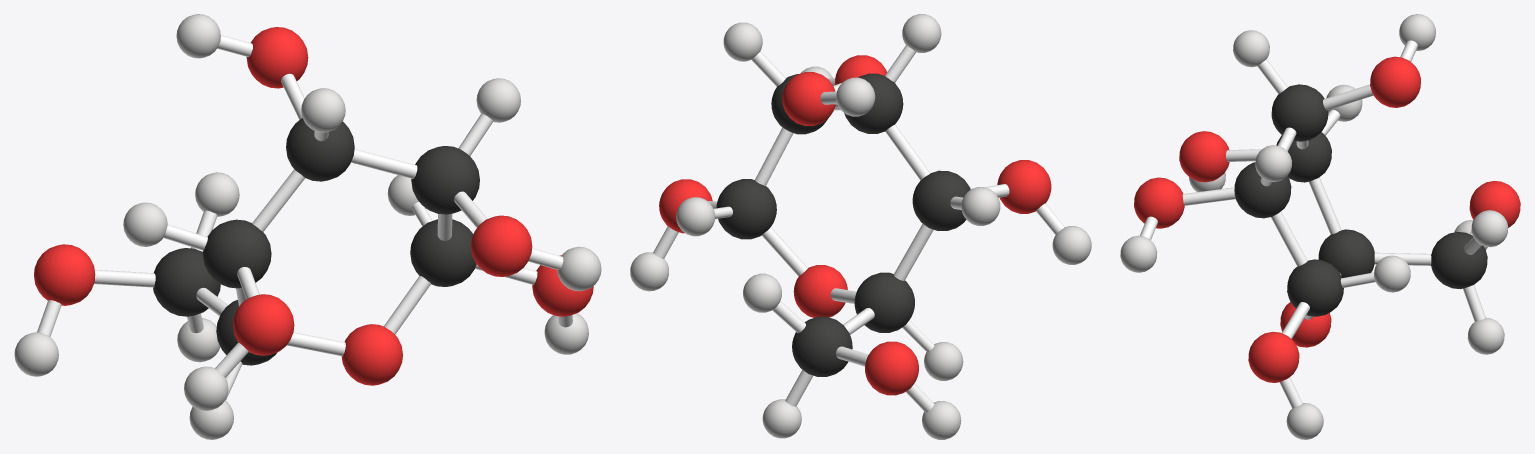
File: putaotang.fbx
3 renders of one model, left to right at view 1: azimuth 30°, elevation 25°; view 2: azimuth 150°, elevation 25°; view 3: azimuth 270°, elevation 25°, orthographic. The views are drawn at different scales.
Parts seen in each view (by area): view 1: _0*174, _0*176, _0*173, _0*178, _0*175, _0*169, _0*171, _0*172, _0*168, _0*170, _0*167, _0*181 (+21 smaller); view 2: _0*173, _0*177, _0*178, _0*176, _0*172, _0*171, _0*170, _0*168, _0*175, _0*167, _0*179, _0*187 (+19 smaller); view 3: _0*173, _0*175, _0*178, _0*167, _0*170, _0*174, _0*171, _0*177, _0*169, _0*176, _0*172, _0*168 (+17 smaller).
Part boxes in pixels (x1,y1,x2,y2): _0*174: (411, 146, 479, 214); _0*176: (203, 219, 271, 288); _0*173: (410, 219, 476, 286); _0*178: (153, 248, 220, 316); _0*175: (286, 118, 354, 181); _0*169: (470, 215, 532, 276); _0*171: (233, 294, 294, 355); _0*172: (34, 244, 95, 305); _0*168: (341, 324, 402, 385); _0*170: (246, 27, 308, 88); _0*167: (532, 255, 593, 316); _0*181: (301, 88, 345, 132); _0*173: (716, 179, 776, 239); _0*177: (854, 272, 914, 332); _0*178: (792, 316, 852, 376); _0*176: (912, 170, 970, 230); _0*172: (865, 341, 918, 395); _0*171: (997, 160, 1051, 213); _0*170: (782, 72, 835, 125); _0*168: (793, 265, 847, 317); _0*175: (844, 73, 903, 133); _0*167: (659, 179, 712, 233); _0*179: (676, 197, 715, 236); _0*187: (836, 77, 875, 116); _0*173: (1287, 259, 1343, 316); _0*175: (1271, 84, 1328, 141); _0*178: (1431, 232, 1487, 288); _0*167: (1248, 331, 1299, 382); _0*170: (1370, 56, 1420, 107); _0*174: (1234, 162, 1291, 218); _0*171: (1179, 131, 1229, 182); _0*177: (1318, 229, 1374, 277); _0*169: (1134, 177, 1184, 228); _0*176: (1276, 132, 1331, 182); _0*172: (1469, 181, 1520, 227); _0*168: (1280, 302, 1331, 347).
Bounding box in the file's own units: 113 × 88.37 × 100.
